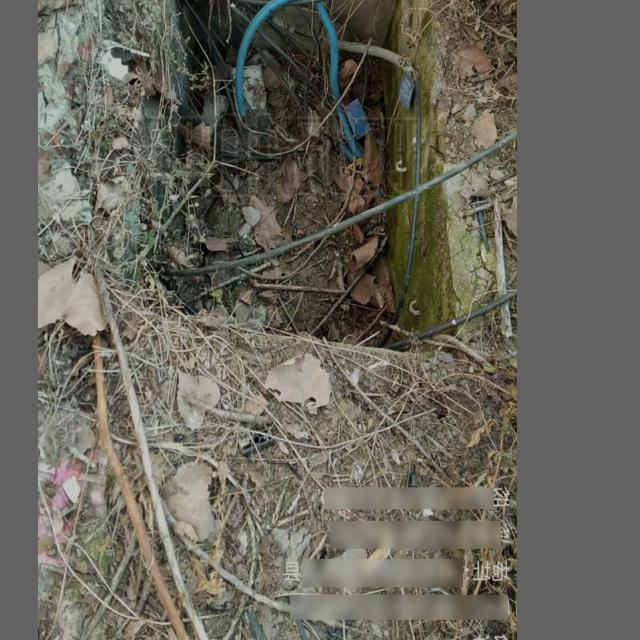lose: (101, 0, 460, 362)
